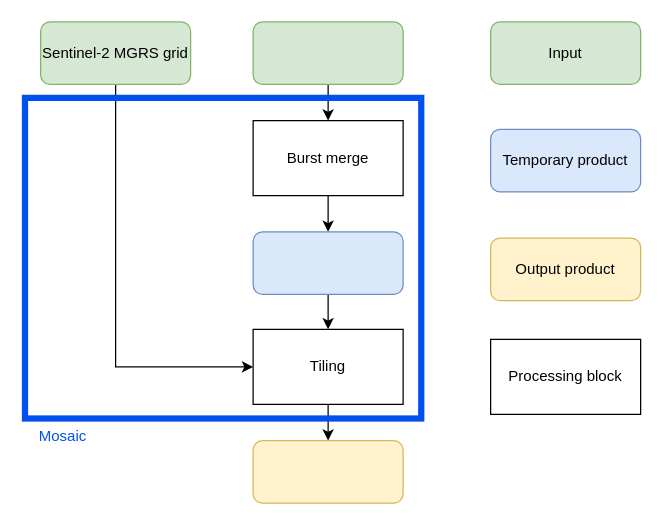
The diagram is 663 pixels wide and 525 high, and some of its shapes have lost their labels. The centre of each missing label's shape, as x and y in pixels:
mosaicked NRB: (x=327, y=262)
NRB: (x=327, y=471)
NRBs within the same Data Take ID: (x=327, y=52)
